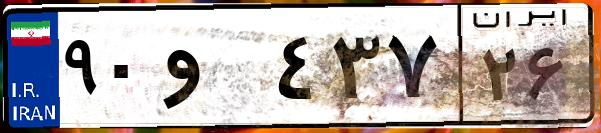0: (110, 28, 158, 98)
2: (475, 38, 525, 113)
3: (330, 28, 385, 110)
4: (270, 28, 330, 110)
6: (525, 38, 570, 115)
7: (385, 28, 445, 110)
9: (57, 26, 110, 100)
و: (158, 20, 270, 120)
